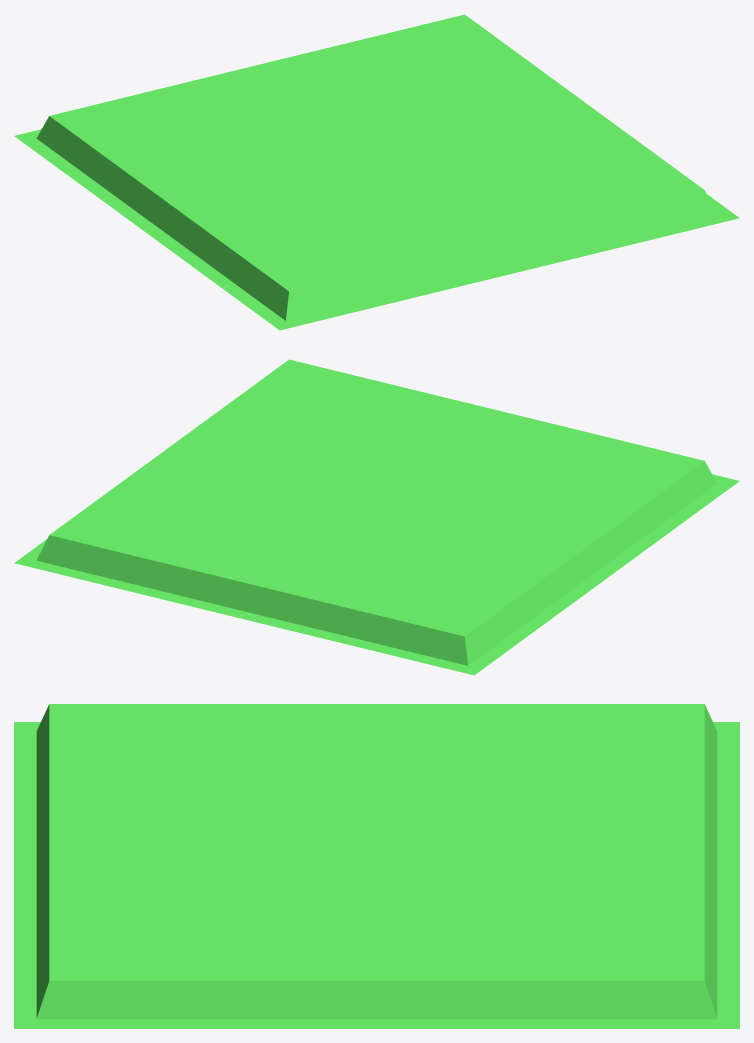
The model's file is MODEL_GridHighlight.FBX.
3 views of the same model, one above another, from view 1: azimuth 30°, elevation 25°; view 2: azimuth 150°, elevation 25°; view 3: azimuth 270°, elevation 25° (orthographic). The views are drawn at different scales.
Visible parts, largest first — view 1: MESH_CellHighlighter; view 2: MESH_CellHighlighter; view 3: MESH_CellHighlighter.
Boxes of the visible parts, box(x1,y1,x2,y2) form: MESH_CellHighlighter: box(14, 14, 739, 330); MESH_CellHighlighter: box(14, 359, 739, 675); MESH_CellHighlighter: box(14, 704, 739, 1028).
Bounding box in the file's own units: 10 × 0.5 × 10.
